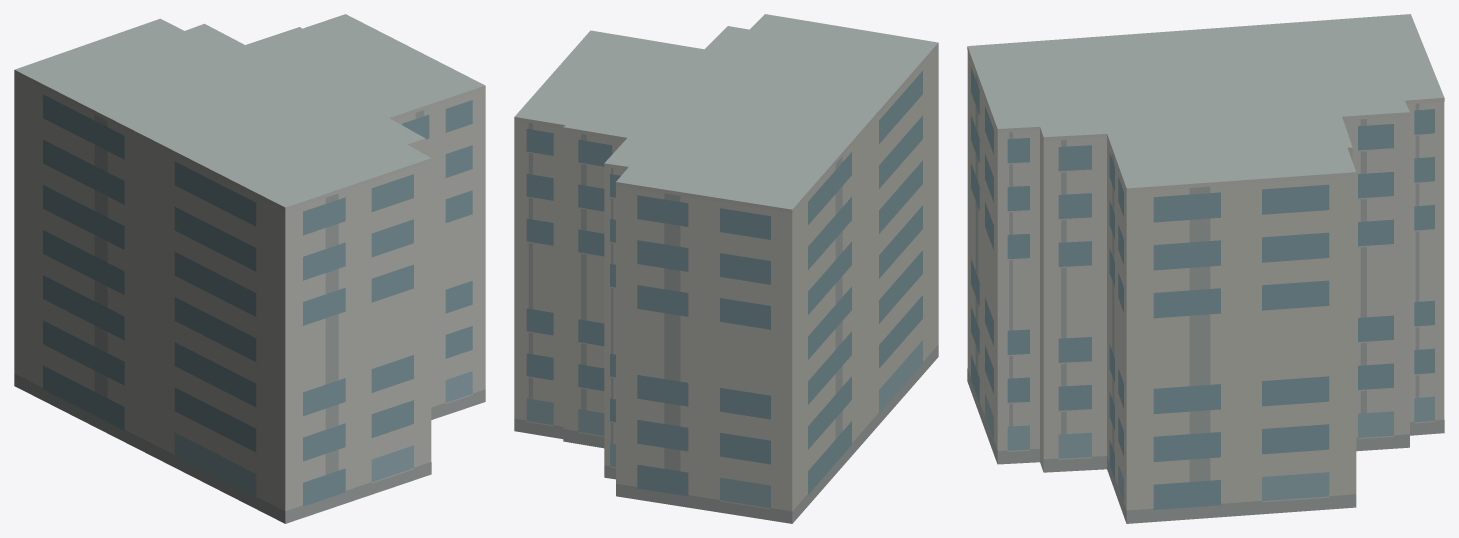
File: survey-upis-32677785.glb
3 views of the same model, side by side, from view 1: azimuth 30°, elevation 25°; view 2: azimuth 150°, elevation 25°; view 3: azimuth 270°, elevation 25° (orthographic). The views are drawn at different scales.
Visible parts, largest first — view 1: survey-upis-32677785.tmp; view 2: survey-upis-32677785.tmp; view 3: survey-upis-32677785.tmp.
Boxes of the visible parts, <box> form: survey-upis-32677785.tmp: <box>14,14,485,523</box>; survey-upis-32677785.tmp: <box>514,14,938,523</box>; survey-upis-32677785.tmp: <box>967,14,1444,523</box>.
Bounding box in the file's own units: 22.77 × 20.4 × 26.3.
